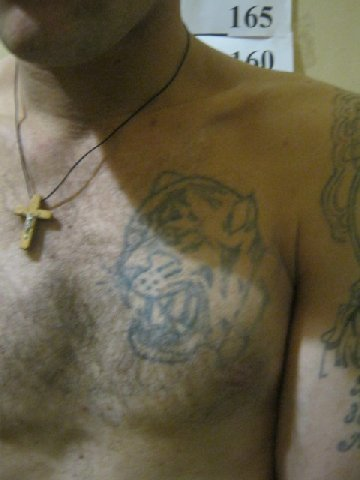tatu5_tigr: (112, 172, 263, 368)
